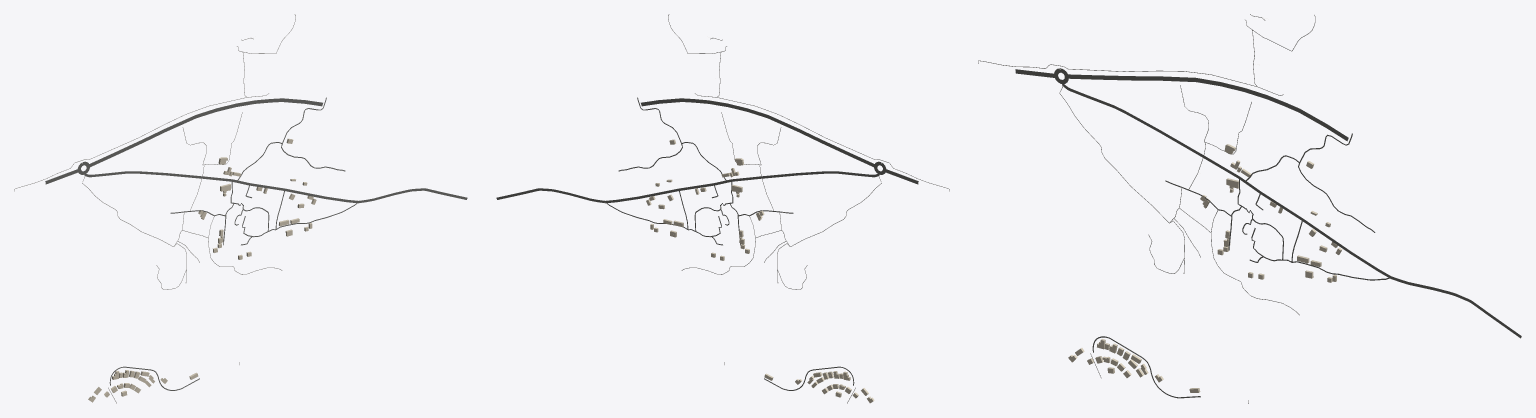
File: historic-palestine-08_27_3501_3218.glb
3 views of the same model, side by side, from view 1: azimuth 30°, elevation 25°; view 2: azimuth 150°, elevation 25°; view 3: azimuth 330°, elevation 25° (orthographic). The views are drawn at different scales.
Visible parts, largest first — view 1: Road 5745, Road עוקף נבי אליאס.001; view 2: Road 5745, Road עוקף נבי אליאס.001; view 3: Road 5745, Road עוקף נבי אליאס.001.
Boxes of the visible parts, box(x1,y1,x2,y2) form: Road 5745: box(84, 171, 467, 203); Road עוקף נבי אליאס.001: box(88, 98, 322, 167); Road 5745: box(496, 171, 879, 203); Road עוקף נבי אליאס.001: box(641, 98, 875, 167); Road 5745: box(1062, 84, 1521, 338); Road עוקף נבי אליאס.001: box(1066, 74, 1348, 141).
Size of the model in its own units: 1601 by 1174 by 9.09.
